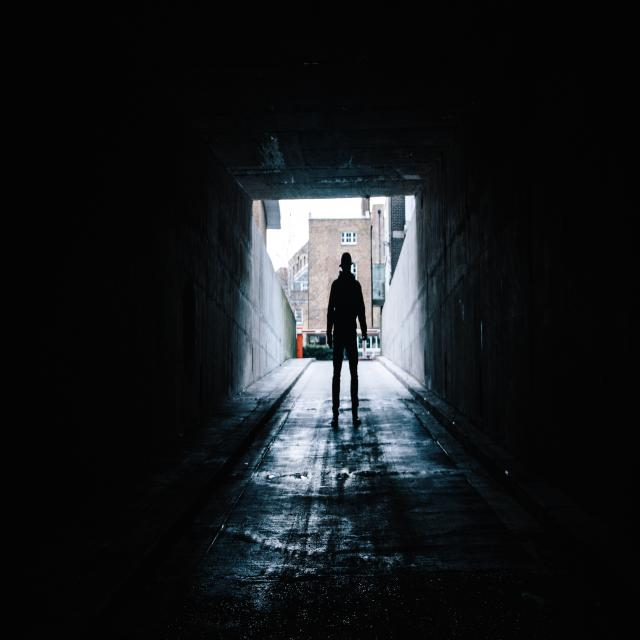standing: (327, 250, 370, 431)
